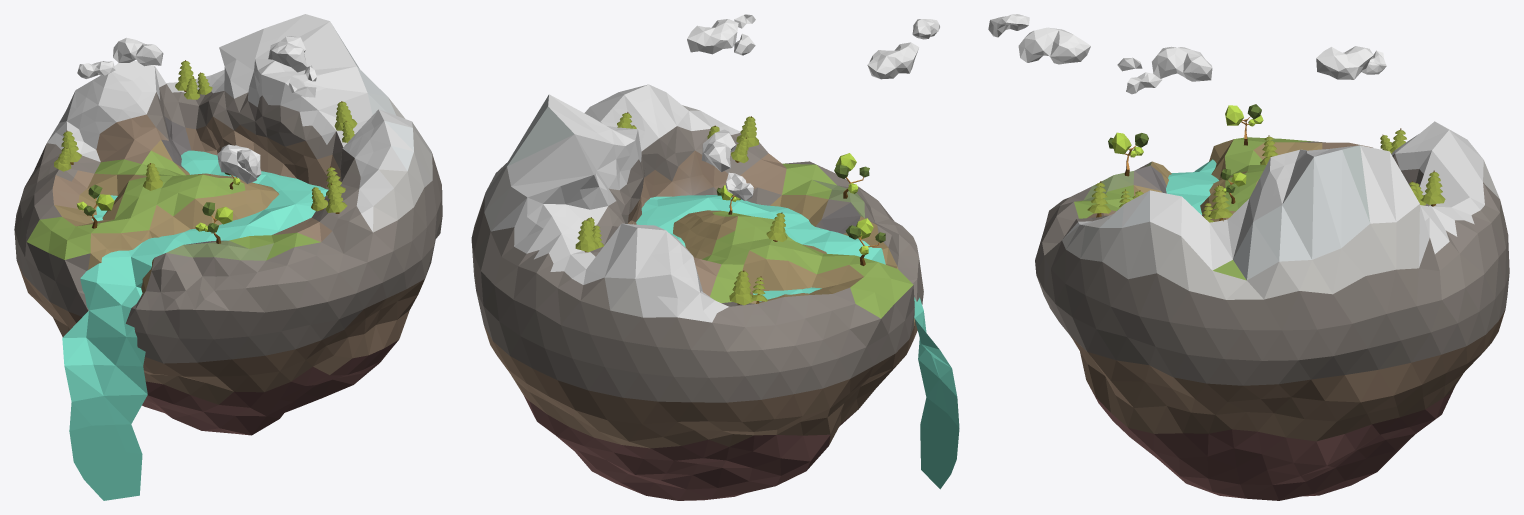
File: mountain-island.glb
3 views of the same model, side by side, from view 1: azimuth 30°, elevation 25°; view 2: azimuth 150°, elevation 25°; view 3: azimuth 270°, elevation 25° (orthographic). The views are drawn at different scales.
Parts seen in each view (by area): view 1: Material_002-material, Material_001-material, Material_003-material; view 2: Material_002-material, Material_001-material, Material_003-material, Material_007-material; view 3: Material_002-material, Material_003-material, Material_001-material.
Part boxes in pixels (x1=…): Material_002-material: x1=14, y1=14, x2=442, y2=435; Material_001-material: x1=62, y1=150, x2=328, y2=500; Material_003-material: x1=77, y1=36, x2=316, y2=183; Material_002-material: x1=471, y1=84, x2=923, y2=500; Material_001-material: x1=636, y1=195, x2=959, y2=489; Material_003-material: x1=687, y1=14, x2=939, y2=200; Material_007-material: x1=729, y1=271, x2=754, y2=305; Material_002-material: x1=1035, y1=121, x2=1509, y2=500; Material_003-material: x1=988, y1=14, x2=1386, y2=94; Material_001-material: x1=1166, y1=159, x2=1218, y2=214.
Size of the model in its own units: 20.92 by 20.54 by 21.87.
